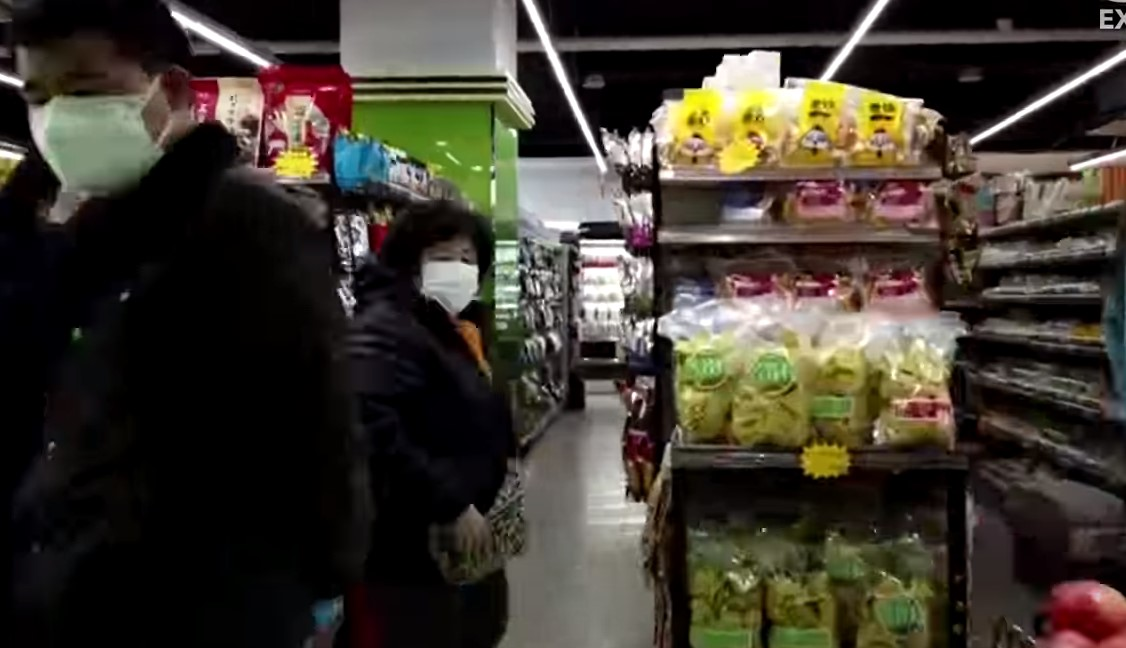face_with_mask: (19, 11, 194, 200), (410, 209, 491, 321)
